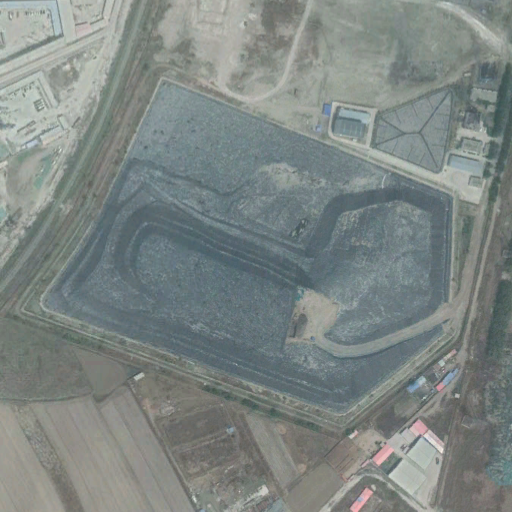lf: (39, 80, 457, 417)
